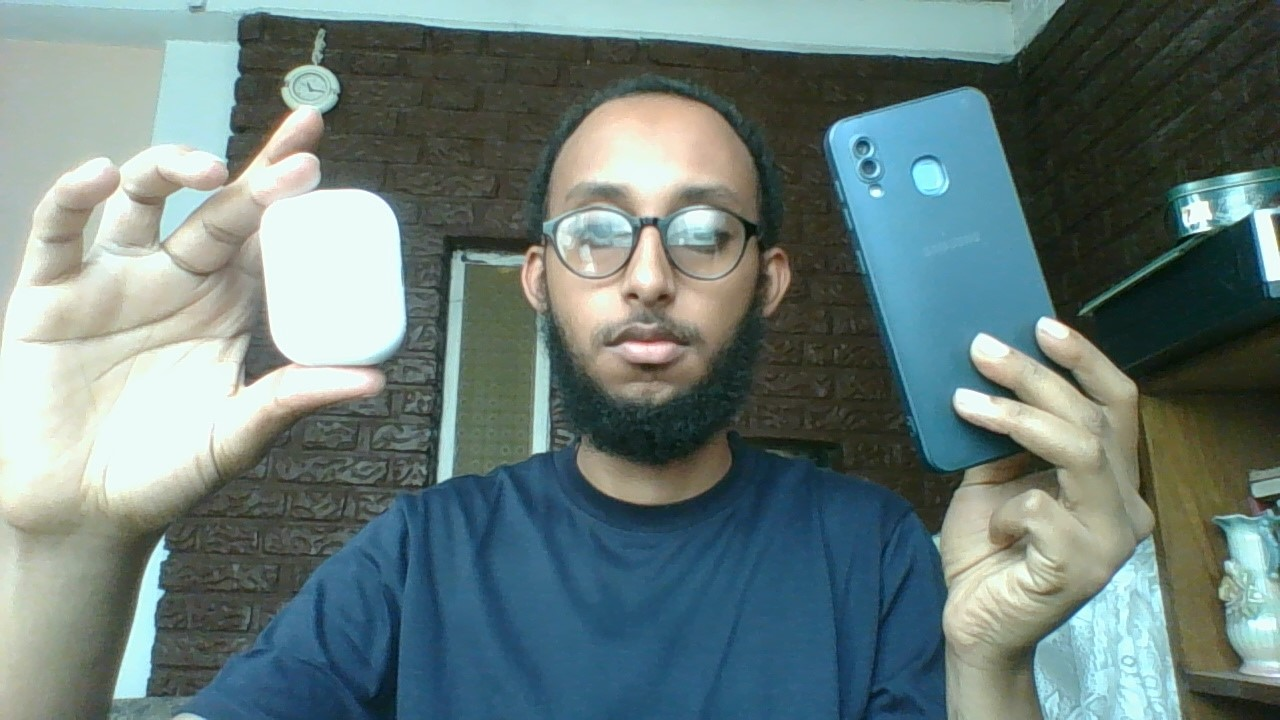Air_pod: (238, 176, 419, 376)
Smart_phone: (819, 75, 1067, 475)
